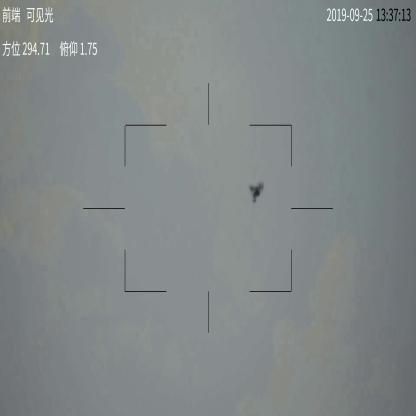uav: (248, 181, 265, 205)
